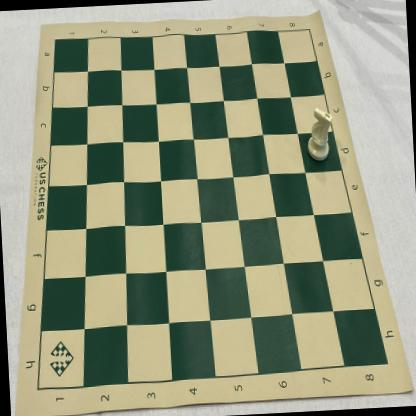knight: (305, 105, 334, 162)
